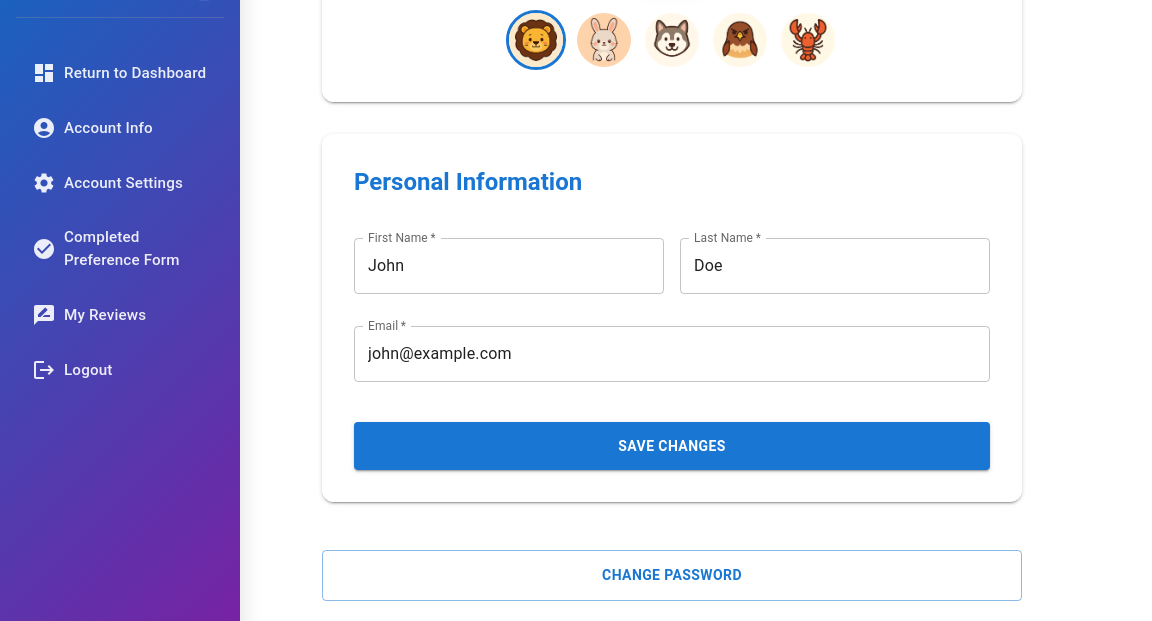
Test: AccountSettings Page › displays error message on failed account update with HTML error page
(page scrolled)
Step 1. Click the button "Save Changes" → [672, 446], box [354,422,990,470]
(page scrolled)
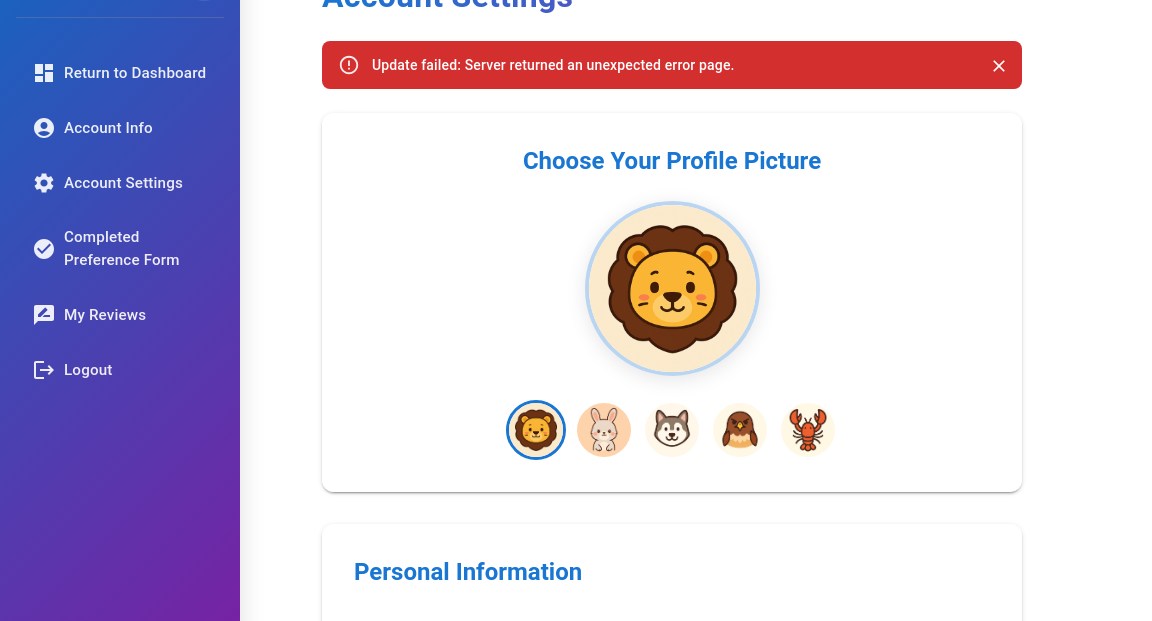
Expected: the text "Update failed: Server returned an unexpected error page." is shown, [372,56,735,72]
